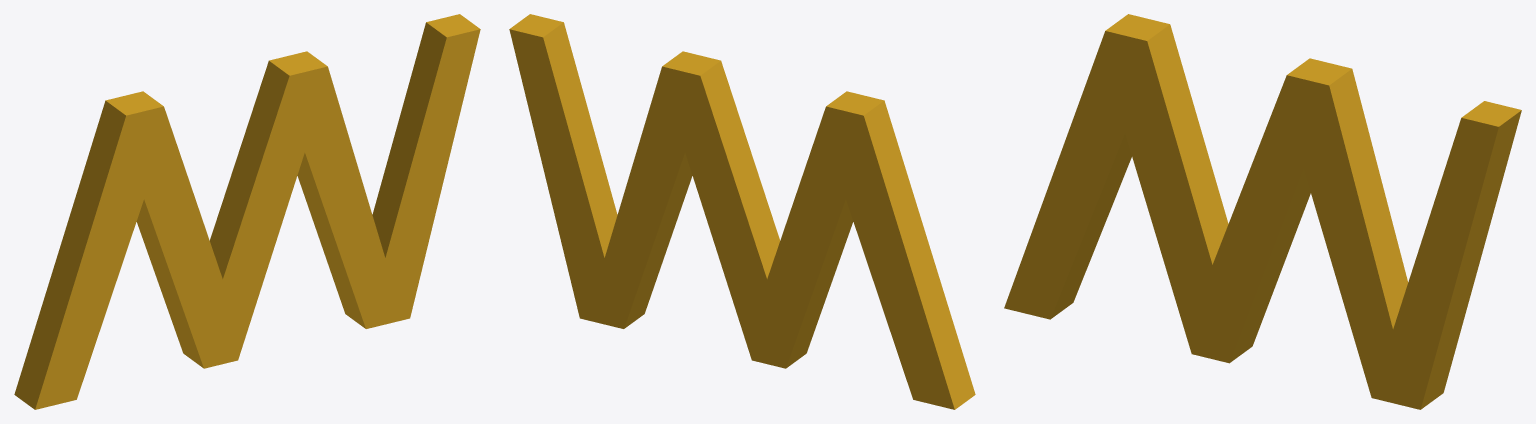
Rendered from Prop_Jungle_Temple_Ornament_Icon_Plaque_Small_Gold_15.FBX.
The picture shows the model from 3 angles, left to right: view 1: azimuth 30°, elevation 25°; view 2: azimuth 150°, elevation 25°; view 3: azimuth 330°, elevation 25°; orthographic projection. The views are drawn at different scales.
Parts seen in each view (by area): view 1: Prop_Jungle_Temple_Ornament_Icon_Plaque_Small_Gold_15; view 2: Prop_Jungle_Temple_Ornament_Icon_Plaque_Small_Gold_15; view 3: Prop_Jungle_Temple_Ornament_Icon_Plaque_Small_Gold_15.
Boxes of the visible parts, left/top/right/bottom form: Prop_Jungle_Temple_Ornament_Icon_Plaque_Small_Gold_15: left=14, top=14, right=480, bottom=409; Prop_Jungle_Temple_Ornament_Icon_Plaque_Small_Gold_15: left=509, top=14, right=975, bottom=409; Prop_Jungle_Temple_Ornament_Icon_Plaque_Small_Gold_15: left=1004, top=14, right=1521, bottom=409.
Size of the model in its own units: 550 by 321 by 44.43.
